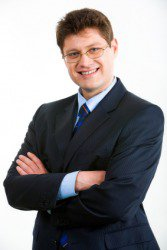noMask: (49, 7, 129, 94)
